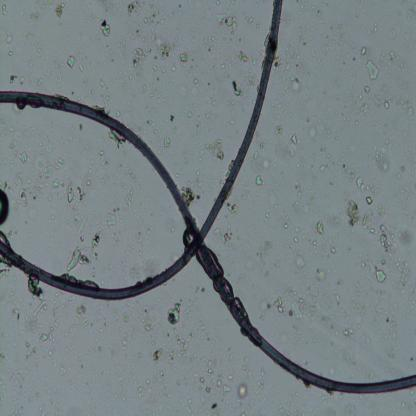Air bubble: (0, 189, 10, 226)
Background material: (114, 227, 157, 280), (324, 95, 373, 139), (138, 2, 176, 42), (272, 31, 308, 72), (290, 176, 312, 217), (22, 28, 47, 60), (393, 87, 416, 119), (193, 317, 215, 350), (112, 32, 136, 61), (8, 307, 34, 333), (66, 246, 90, 274), (379, 47, 403, 74), (42, 59, 65, 84), (198, 27, 223, 49), (10, 366, 31, 392), (378, 224, 396, 254), (334, 158, 356, 182), (203, 139, 225, 162), (394, 256, 411, 285), (214, 53, 230, 82), (346, 199, 362, 227), (285, 70, 302, 96), (174, 333, 193, 356), (305, 282, 319, 313), (233, 398, 257, 416), (166, 301, 182, 327), (328, 26, 346, 49), (215, 14, 238, 32), (244, 69, 262, 92), (13, 186, 30, 210), (289, 298, 306, 322), (116, 70, 134, 92), (118, 158, 136, 180), (214, 226, 235, 244), (259, 238, 278, 257), (28, 278, 44, 300), (362, 213, 378, 235), (275, 402, 300, 416), (120, 329, 132, 358), (74, 214, 89, 237), (131, 46, 148, 66), (376, 150, 391, 172), (81, 154, 96, 176), (90, 228, 104, 251), (23, 340, 39, 360), (291, 0, 311, 16), (366, 59, 380, 81), (272, 296, 288, 315), (310, 160, 329, 176), (32, 300, 48, 318), (109, 130, 127, 146), (208, 398, 224, 416), (96, 144, 108, 168), (181, 184, 194, 206), (231, 79, 246, 98), (156, 382, 171, 401), (146, 378, 157, 403), (394, 157, 407, 178), (127, 0, 142, 18), (255, 365, 266, 389), (46, 342, 58, 364), (159, 40, 172, 60), (226, 198, 240, 216), (293, 320, 305, 341), (235, 380, 248, 399), (307, 122, 318, 144), (238, 352, 249, 374), (351, 300, 367, 315), (355, 175, 367, 195), (195, 172, 203, 202), (14, 396, 26, 416), (139, 114, 156, 128), (374, 267, 387, 285), (278, 210, 290, 229), (272, 123, 286, 139), (53, 3, 66, 20), (320, 316, 334, 331), (118, 386, 133, 400), (105, 211, 117, 228), (119, 308, 130, 326), (152, 347, 165, 362), (151, 127, 162, 144), (0, 262, 11, 279), (52, 177, 65, 191), (66, 184, 75, 204), (42, 164, 54, 179), (205, 357, 214, 377), (38, 332, 53, 344), (136, 384, 147, 400), (100, 22, 111, 38), (184, 397, 193, 416), (178, 49, 190, 63), (386, 27, 400, 39), (289, 134, 301, 148), (162, 136, 174, 150), (4, 140, 18, 152), (294, 253, 305, 268), (124, 194, 133, 212), (370, 20, 380, 36), (316, 218, 324, 238), (16, 171, 26, 187), (90, 31, 102, 44), (342, 326, 355, 338), (236, 52, 249, 64), (57, 364, 68, 378), (43, 141, 54, 155), (76, 306, 87, 320), (35, 405, 49, 416), (77, 184, 85, 203), (316, 267, 326, 282), (292, 221, 302, 236), (17, 153, 29, 165), (145, 316, 153, 334), (332, 287, 340, 305), (55, 156, 65, 170), (381, 134, 391, 148), (67, 54, 76, 69), (30, 11, 42, 22), (220, 383, 232, 394), (102, 92, 110, 108), (156, 93, 166, 105), (5, 32, 13, 46), (314, 9, 322, 23), (0, 2, 8, 16), (158, 61, 166, 75), (199, 394, 208, 406), (157, 368, 165, 381), (34, 76, 44, 86), (255, 176, 265, 186), (364, 195, 374, 205), (170, 126, 180, 136), (382, 100, 391, 111), (139, 84, 148, 95), (90, 62, 99, 73), (329, 244, 337, 256), (96, 78, 104, 90), (260, 158, 268, 170), (248, 12, 255, 25), (9, 73, 18, 83), (148, 89, 157, 99), (66, 135, 76, 144), (77, 63, 85, 74), (289, 146, 297, 157), (226, 118, 235, 127), (204, 384, 212, 394), (170, 64, 178, 74), (196, 287, 206, 295), (27, 57, 34, 68), (360, 45, 366, 57), (96, 346, 104, 355), (152, 60, 158, 72), (63, 344, 72, 352), (253, 150, 259, 162), (216, 380, 223, 390), (193, 76, 200, 86), (210, 96, 217, 106), (171, 224, 178, 234), (364, 84, 370, 95), (106, 300, 112, 311), (264, 210, 270, 220), (227, 373, 234, 381), (168, 115, 176, 122), (187, 110, 193, 119), (47, 193, 53, 202), (78, 123, 84, 132), (19, 75, 24, 85), (199, 376, 205, 384), (99, 328, 105, 336), (115, 110, 121, 118), (293, 236, 299, 244), (8, 48, 13, 57), (104, 320, 111, 326), (87, 179, 92, 187), (176, 379, 180, 387), (328, 152, 332, 158)
Microfibre: (0, 90, 416, 394), (0, 2, 286, 302)
